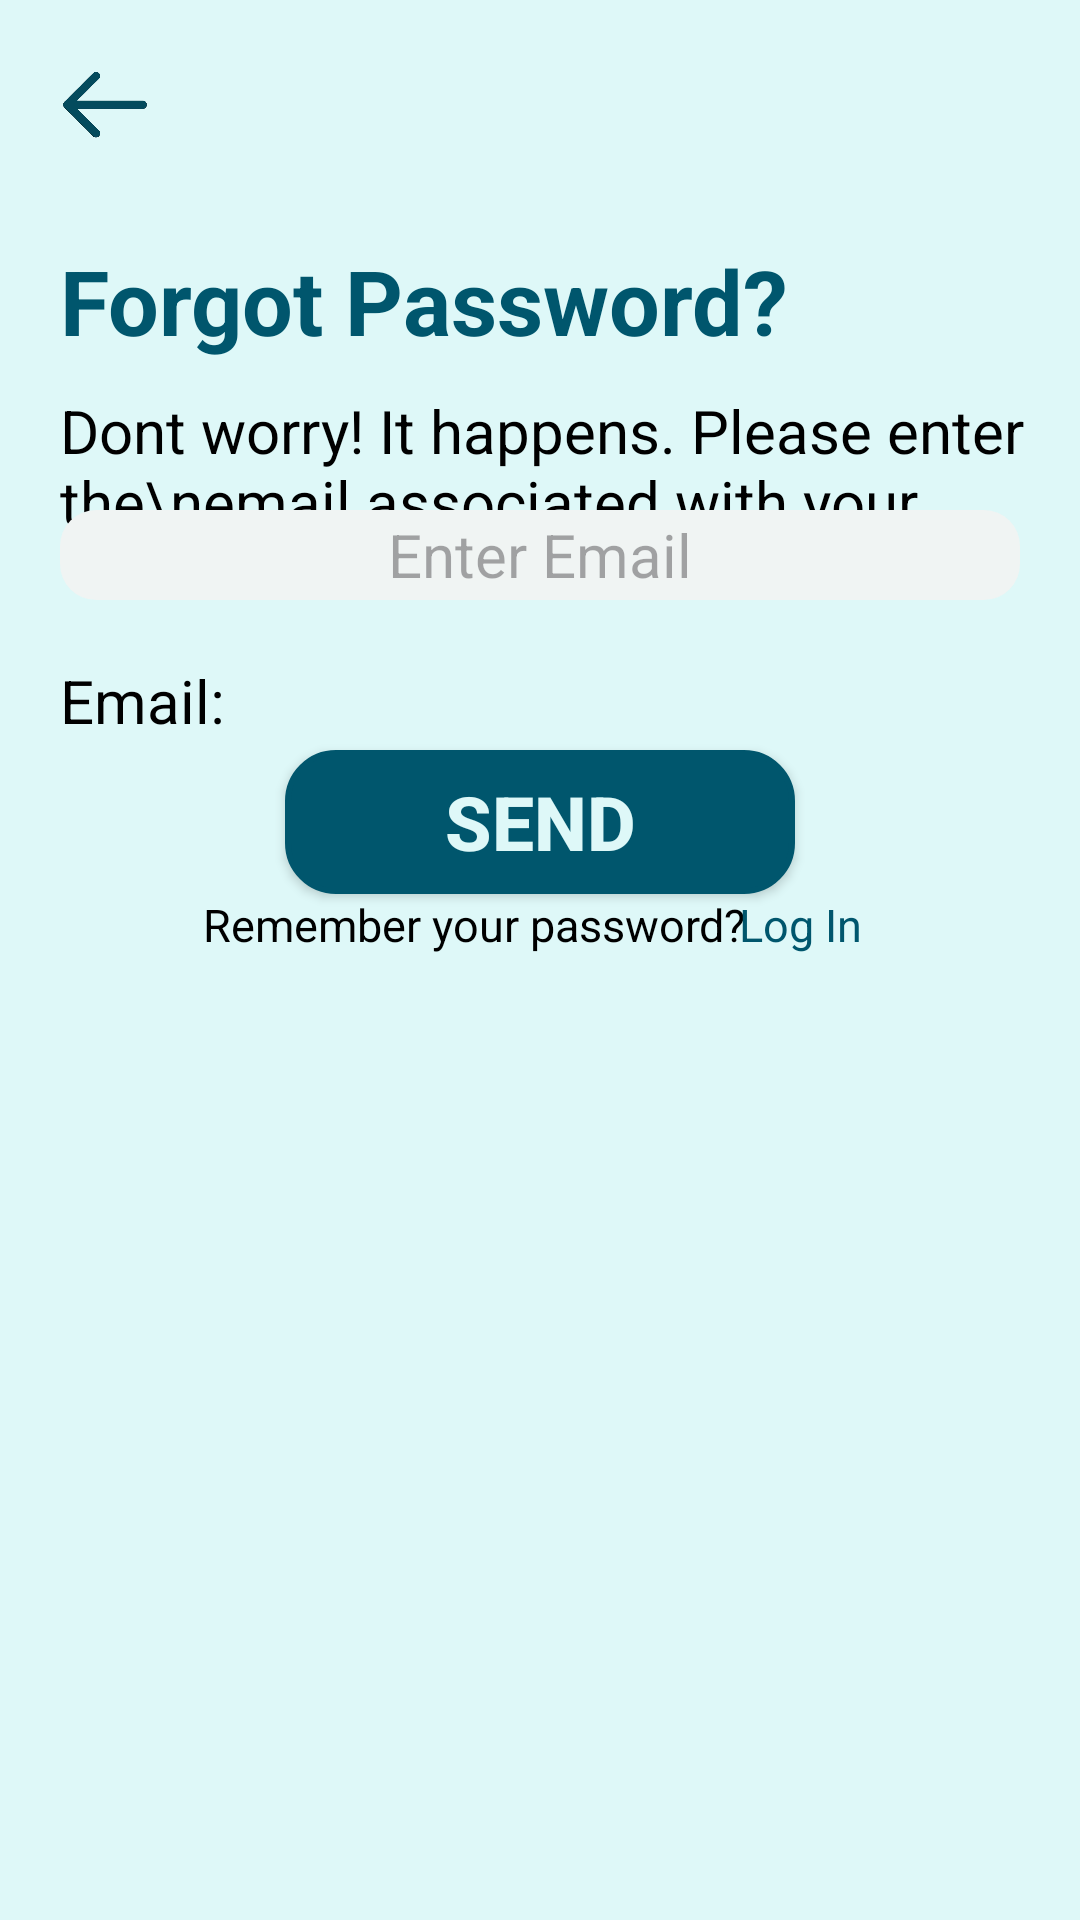

Named icons in this screenshot (1080x1920) and their bounding boxes, (left=x1, top=y1, right=x2, bottom=y2):
backarrow: (left=63, top=72, right=147, bottom=138)
